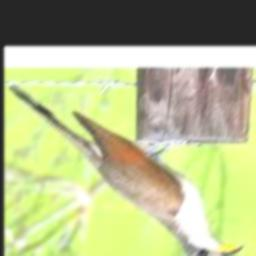Cuckoo: (10, 85, 242, 256)
